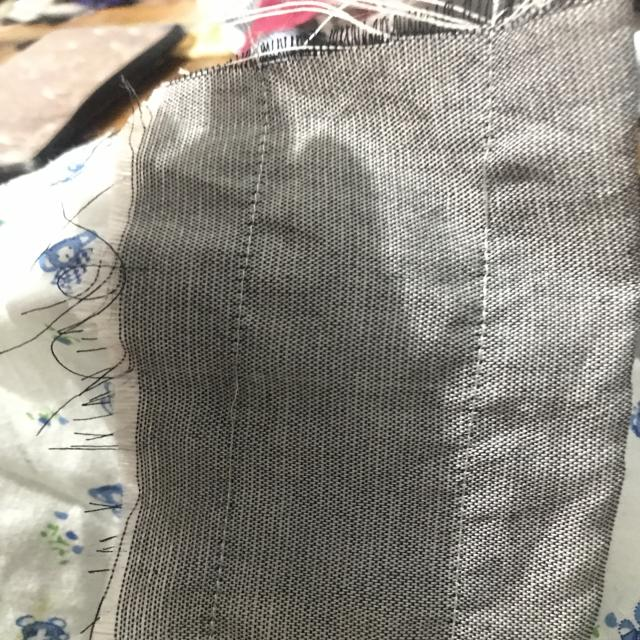good: (227, 201, 267, 292)
